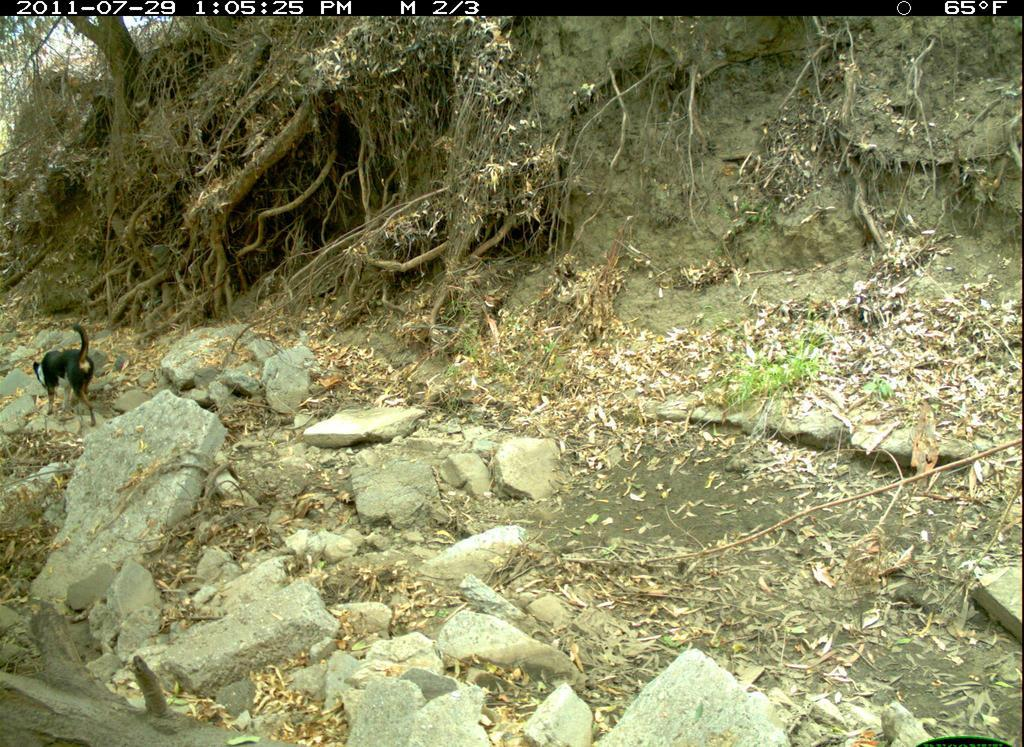dog: (24, 321, 117, 428)
